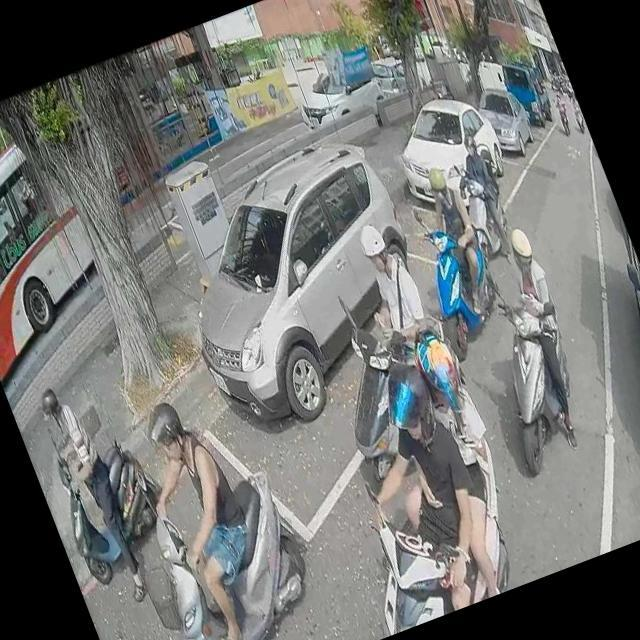person: (314, 360, 521, 632), (349, 324, 539, 612), (114, 382, 290, 640), (480, 217, 605, 454), (32, 378, 154, 604), (402, 152, 502, 322), (339, 218, 442, 380), (452, 130, 528, 264), (568, 92, 580, 112), (552, 91, 564, 108)
